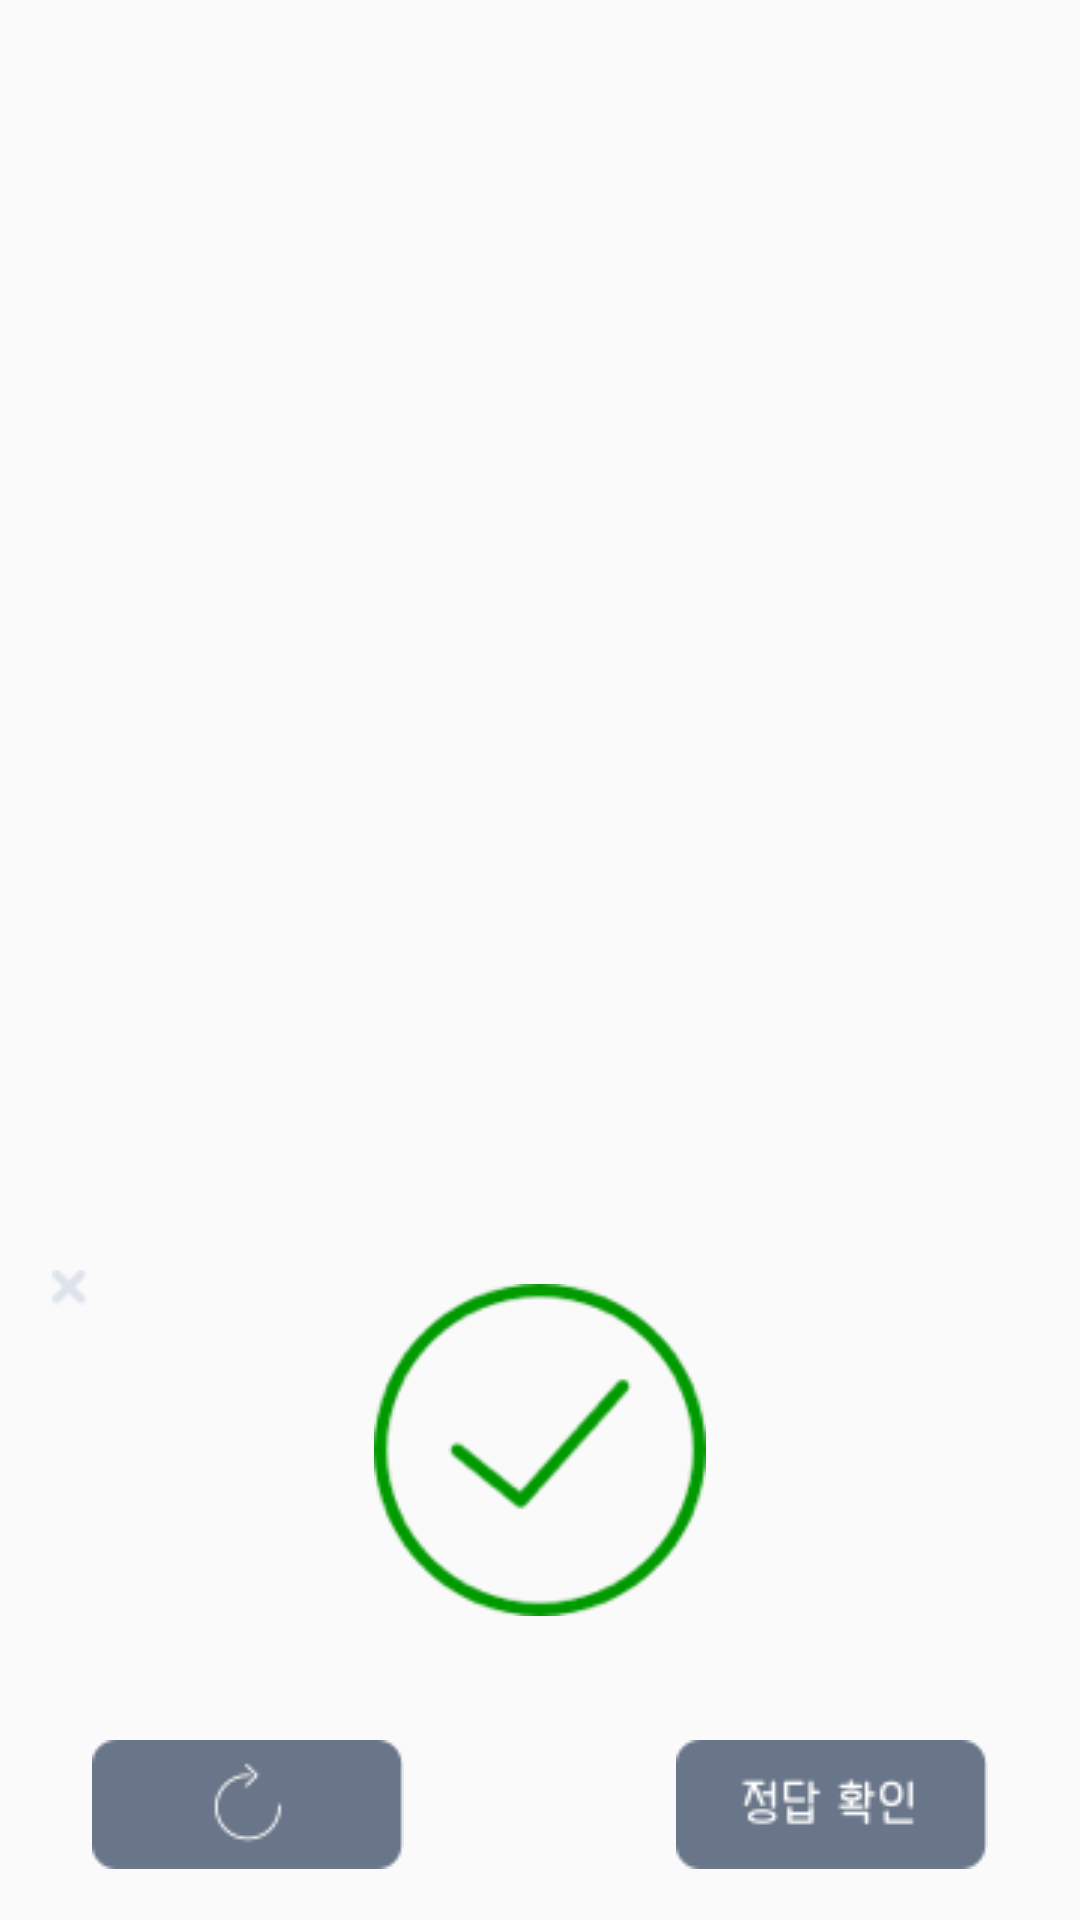

Named icons in this screenshot (1080 × 1920) and their centers, (x,y):
closeicon: (68,1286)
rebtn: (247,1804)
success: (540,1450)
